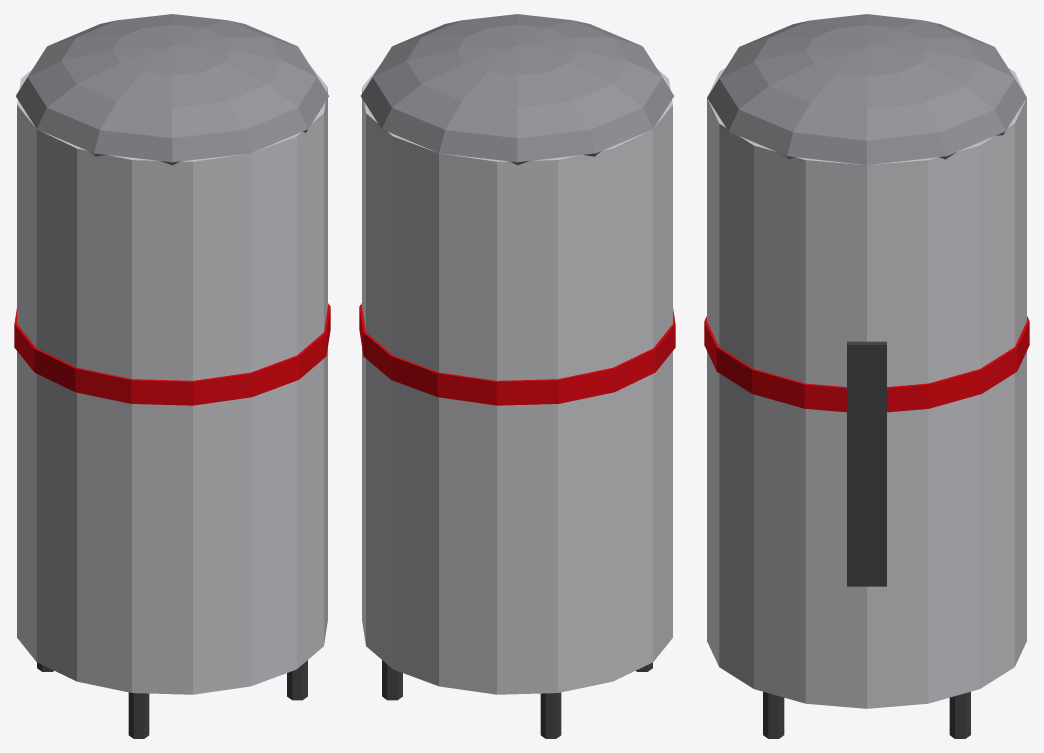
File: chemical_silo.glb
3 views of the same model, side by side, from view 1: azimuth 30°, elevation 25°; view 2: azimuth 150°, elevation 25°; view 3: azimuth 270°, elevation 25° (orthographic).
Visible parts, largest first — view 1: Silo_Tank, Silo_Cap, Silo_HazardStripe, Silo_Leg_0, Silo_Leg_1; view 2: Silo_Tank, Silo_Cap, Silo_HazardStripe, Silo_Leg_2, Silo_Leg_3; view 3: Silo_Tank, Silo_Cap, Silo_Ladder, Silo_HazardStripe, Silo_Leg_1, Silo_Leg_3.
Boxes of the visible parts, <box> form: Silo_Tank: <box>17,64,327,694</box>; Silo_Cap: <box>16,14,328,165</box>; Silo_HazardStripe: <box>14,303,330,405</box>; Silo_Leg_0: <box>128,692,149,738</box>; Silo_Leg_1: <box>287,660,307,700</box>; Silo_Tank: <box>362,64,672,694</box>; Silo_Cap: <box>361,14,673,165</box>; Silo_HazardStripe: <box>359,303,675,405</box>; Silo_Leg_2: <box>540,692,561,738</box>; Silo_Leg_3: <box>382,660,402,700</box>; Silo_Tank: <box>707,68,1026,708</box>; Silo_Cap: <box>707,14,1026,165</box>; Silo_Ladder: <box>847,341,886,586</box>; Silo_HazardStripe: <box>704,316,1029,412</box>; Silo_Leg_1: <box>763,691,784,738</box>; Silo_Leg_3: <box>949,691,970,738</box>.
Size of the model in its own units: 2.5 by 5.37 by 2.44.
